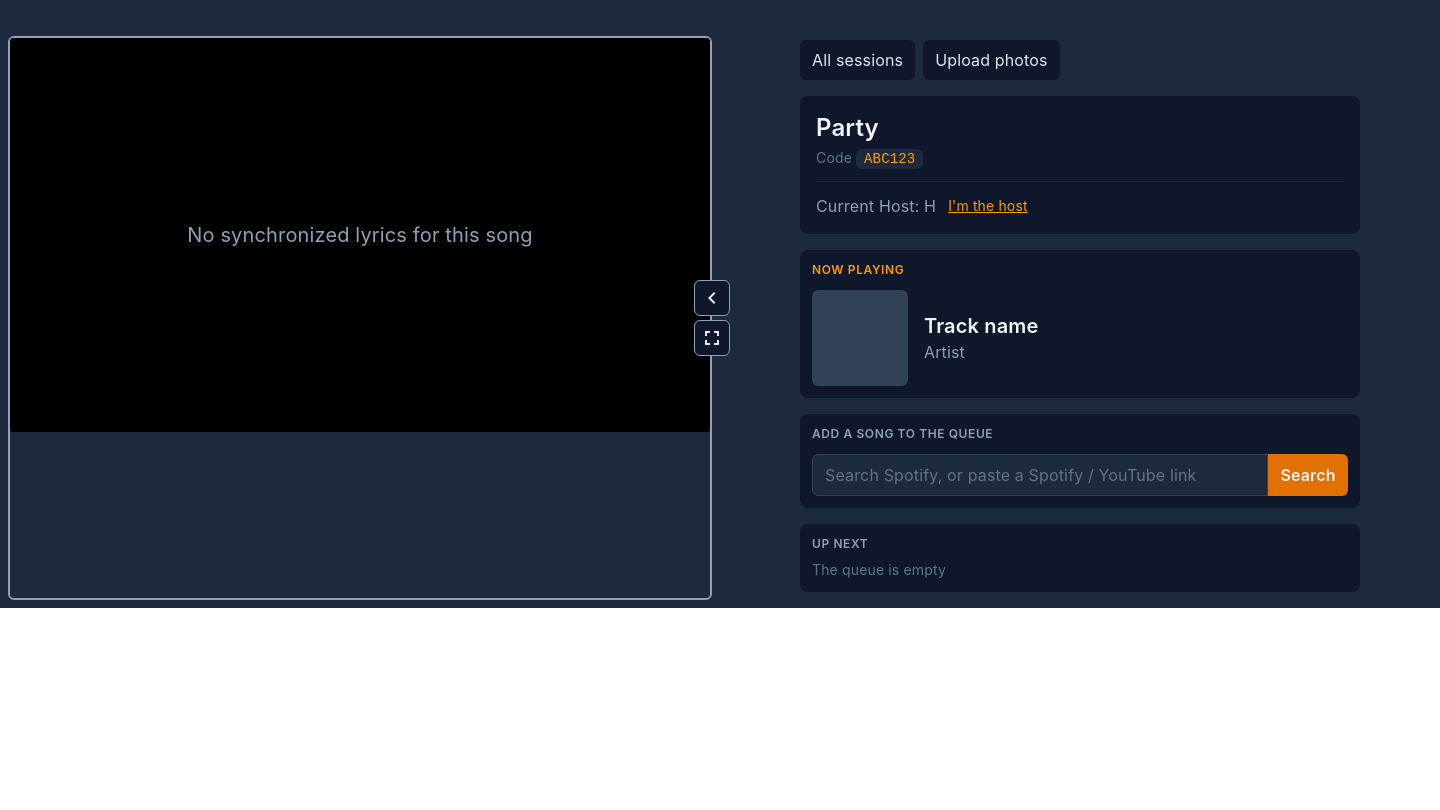
Test: MusicQueue › opens the photo upload dialog from the Upload photos button
The width and height of the screenshot is (1440, 810).
Expected: the heading "Party" is shown, [816, 113, 879, 142]
Expected: the text "Track name" is shown, [924, 312, 1038, 340]
Click the button "Upload photos": click(991, 60) [923, 40, 1060, 80]
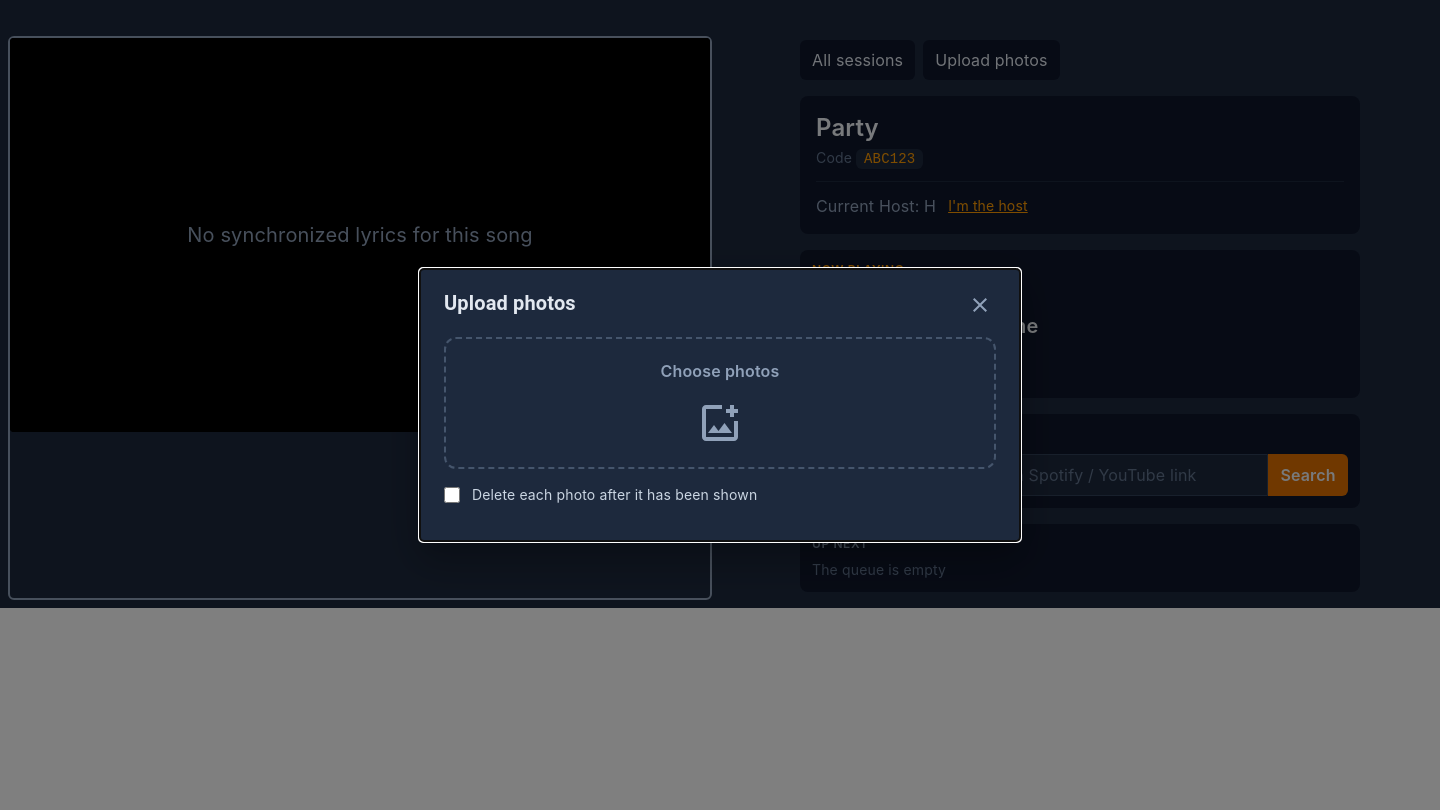
Expected: the element labelled "Choose photos" is shown, [444, 337, 996, 469]
